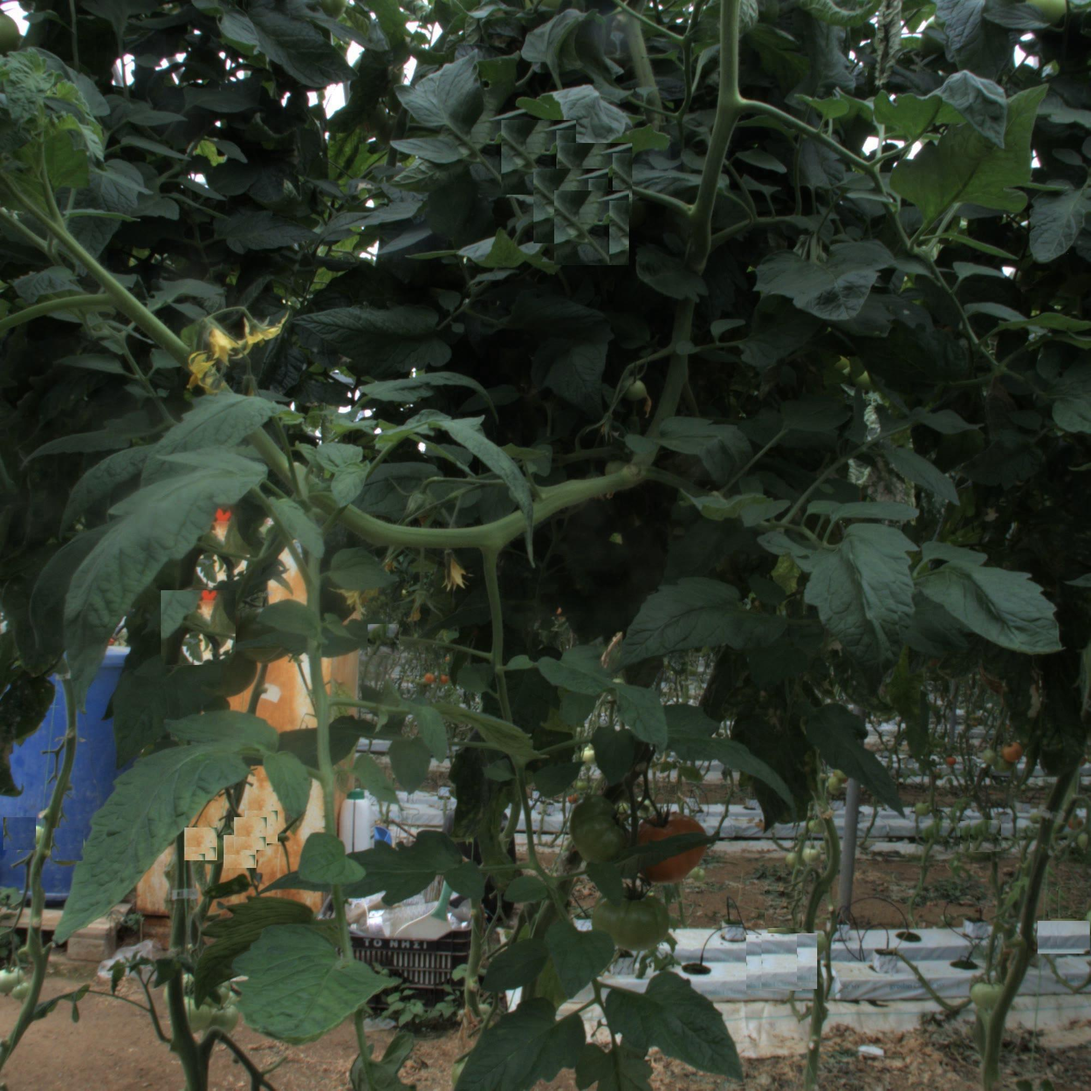['unripe', 'semi-ripe', 'fully-ripe']: (595, 878, 669, 952), (571, 799, 637, 864)
